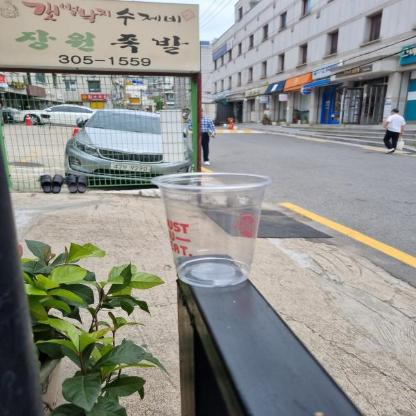Plastic Cup: (145, 168, 279, 290)
